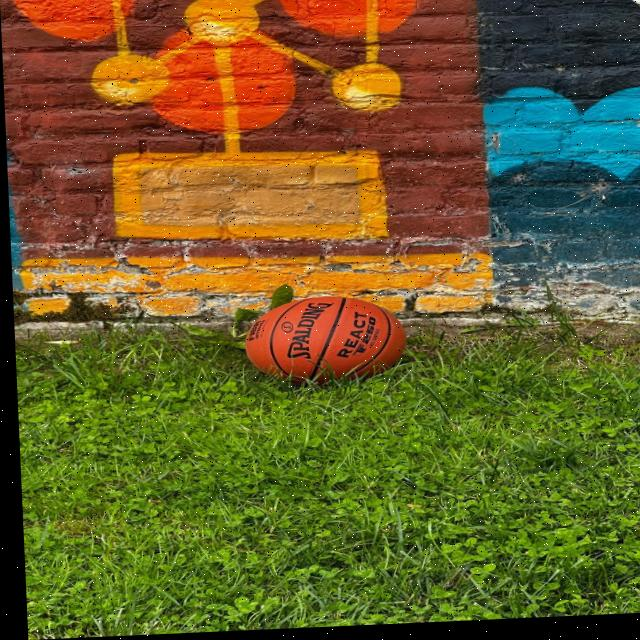Basketball: (241, 291, 407, 382)
